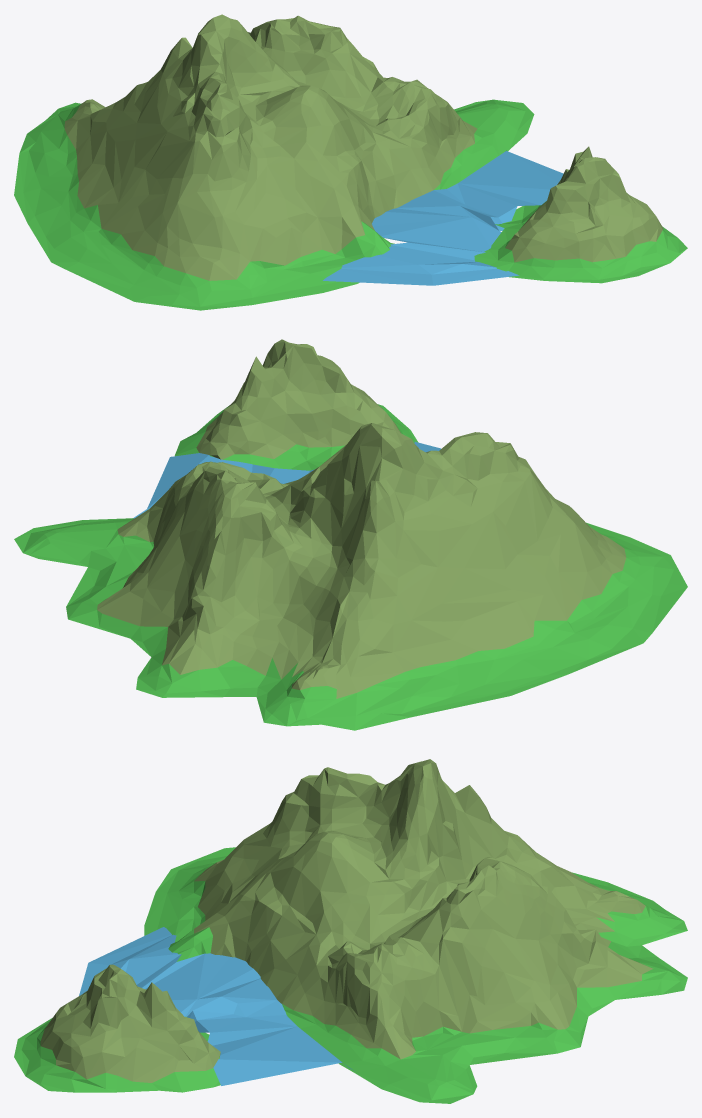
File: mountain.fbx
3 renders of one model, top to bottom at view 1: azimuth 30°, elevation 25°; view 2: azimuth 150°, elevation 25°; view 3: azimuth 270°, elevation 25°, orthographic. The views are drawn at different scales.
Parts seen in each view (by area): view 1: polySurface1; view 2: polySurface1; view 3: polySurface1.
Part boxes in pixels (left/top/right/bottom): polySurface1: left=14, top=14, right=687, bottom=310; polySurface1: left=14, top=339, right=687, bottom=730; polySurface1: left=14, top=759, right=687, bottom=1103.
Bounding box in the file's own units: 32.33 × 10.68 × 34.49.
